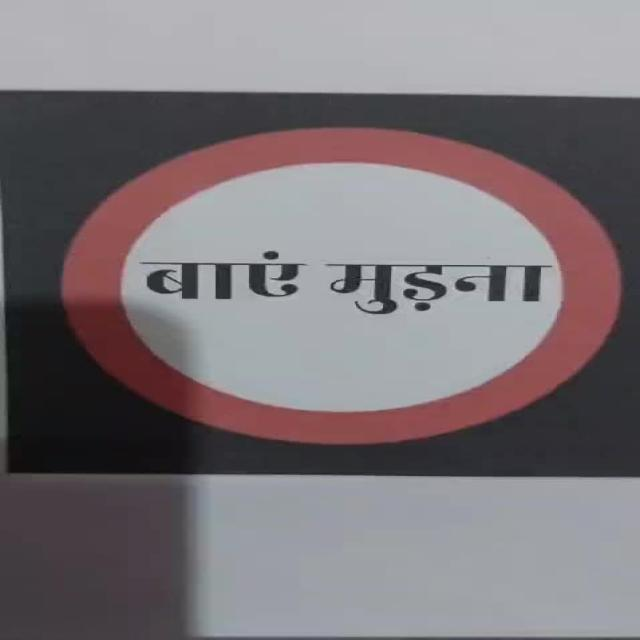hindileft: (58, 124, 624, 447), (137, 254, 553, 314), (119, 244, 319, 322)
